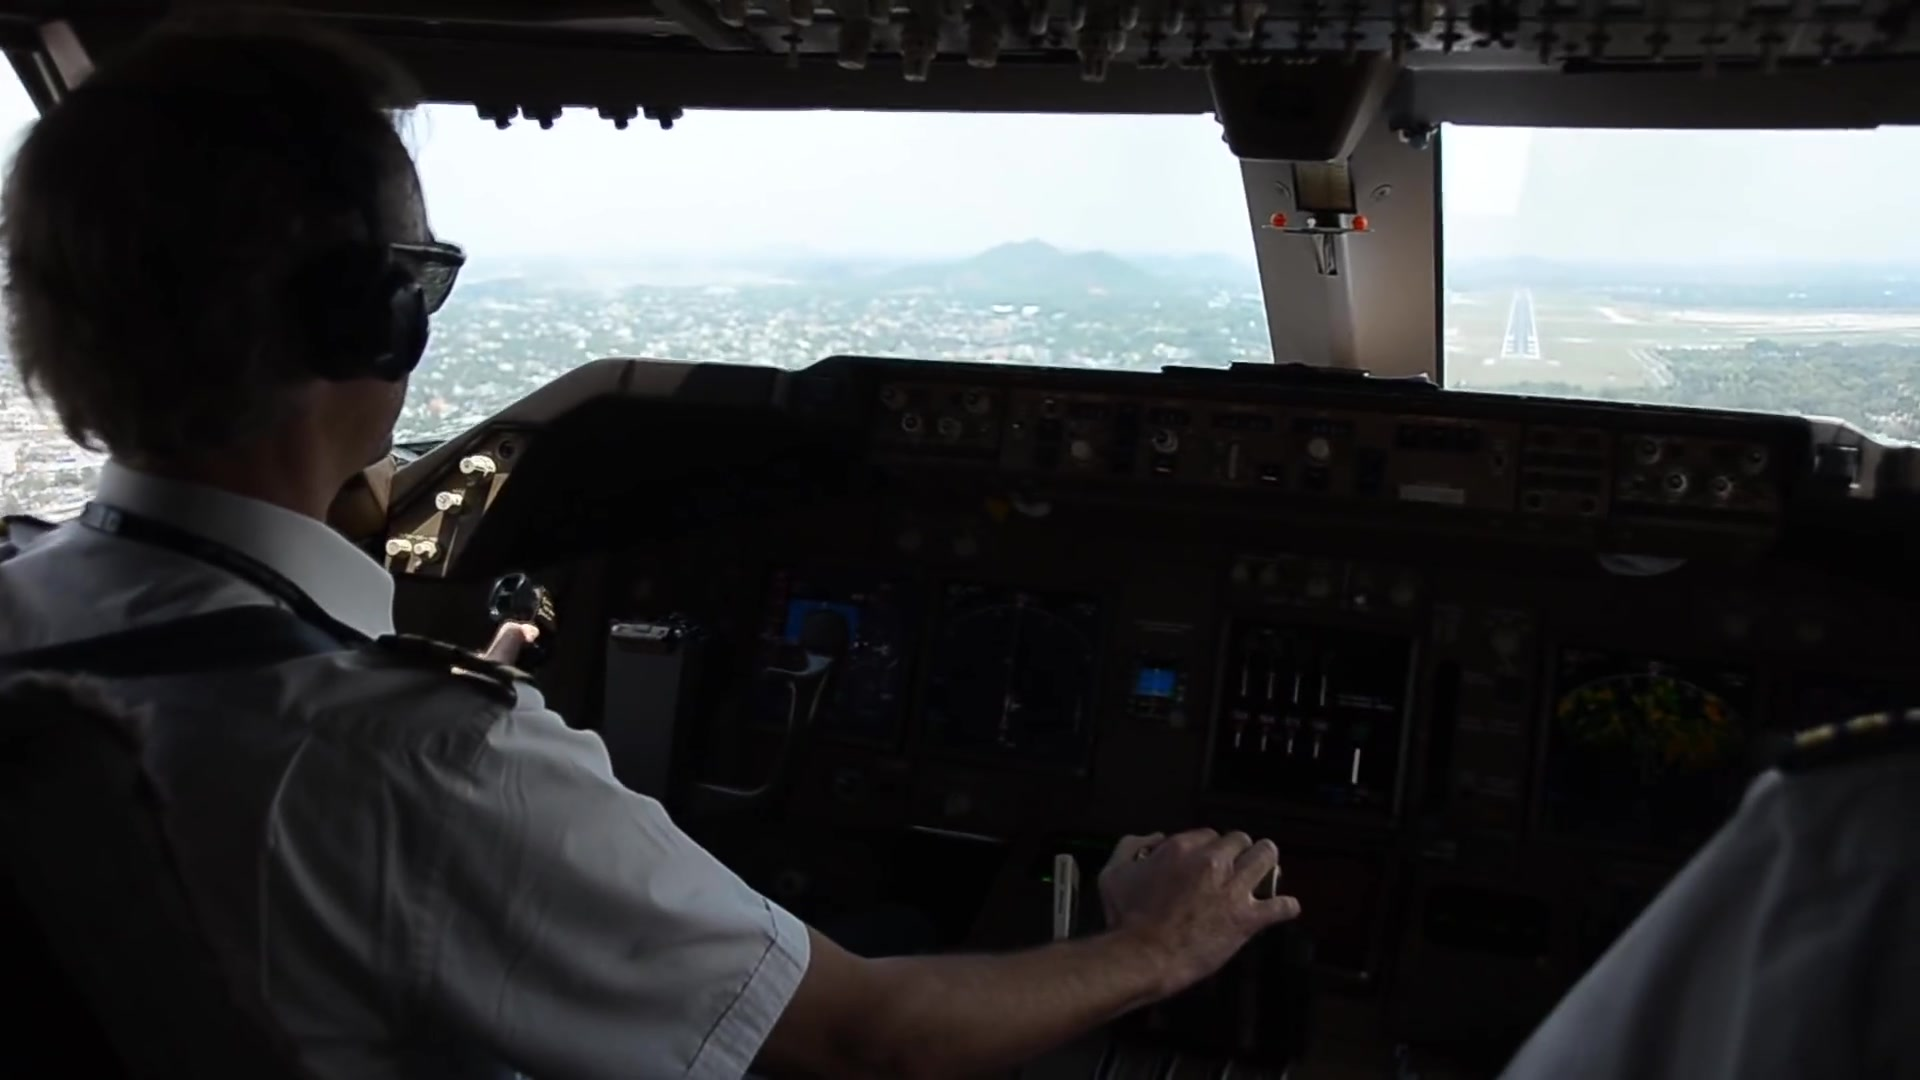runway: (1501, 286, 1540, 360)
